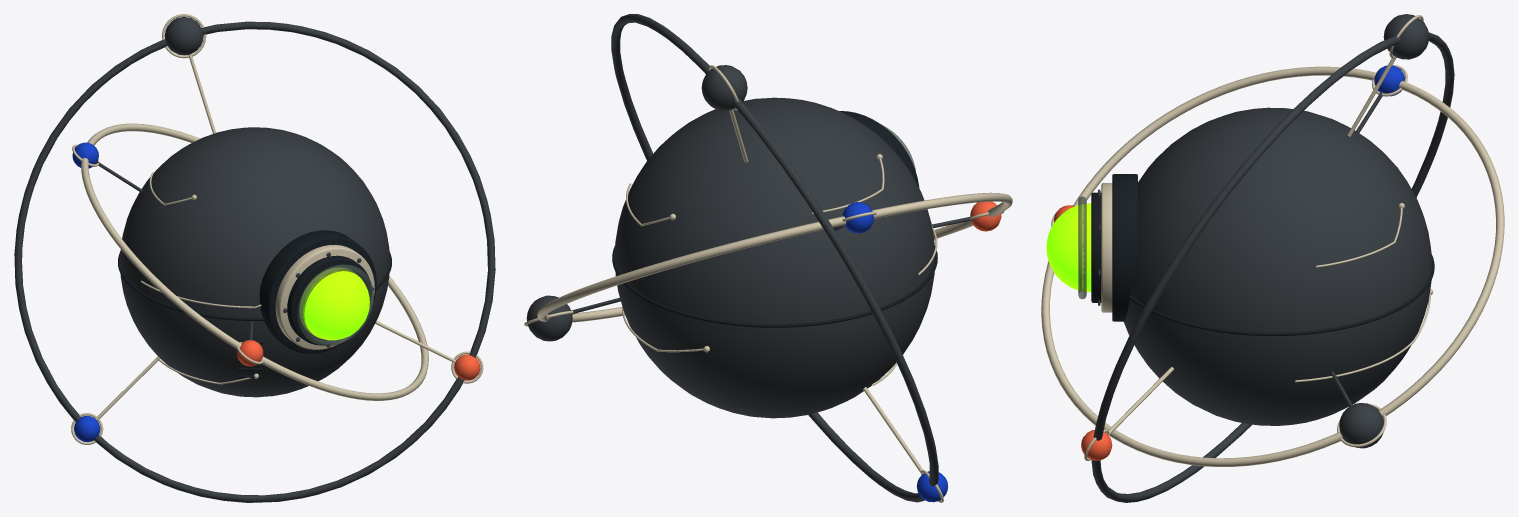
The model's file is nexara-core.glb.
The picture shows the model from 3 angles, left to right: view 1: azimuth 30°, elevation 25°; view 2: azimuth 150°, elevation 25°; view 3: azimuth 270°, elevation 25°; orthographic projection. The views are drawn at different scales.
Visible parts, largest first — view 1: Graphite, Champagne, Recess, Energy_Core, Smoked glass, Coral, Cobalt; view 2: Graphite, Champagne, Recess, Cobalt, Coral; view 3: Graphite, Champagne, Recess, Energy_Core, Smoked glass, Coral, Cobalt.
Boxes of the visible parts, x1,y1,x2,y2 form: Graphite: (14, 16, 495, 502); Champagne: (71, 14, 483, 444); Recess: (118, 230, 391, 377); Energy_Core: (299, 268, 369, 340); Smoked glass: (297, 264, 373, 345); Coral: (237, 340, 480, 380); Cobalt: (72, 142, 100, 442); Graphite: (526, 14, 972, 502); Champagne: (524, 65, 1012, 502); Recess: (612, 111, 937, 327); Cobalt: (843, 202, 947, 502); Coral: (970, 201, 1001, 231); Graphite: (1091, 14, 1454, 502); Champagne: (1041, 15, 1504, 466); Recess: (1091, 174, 1434, 335); Energy_Core: (1046, 203, 1091, 292); Smoked glass: (1078, 196, 1086, 299); Coral: (1053, 205, 1112, 460); Cobalt: (1374, 65, 1404, 96).
Size of the model in its own units: 0.8168 by 0.8842 by 0.7708.
